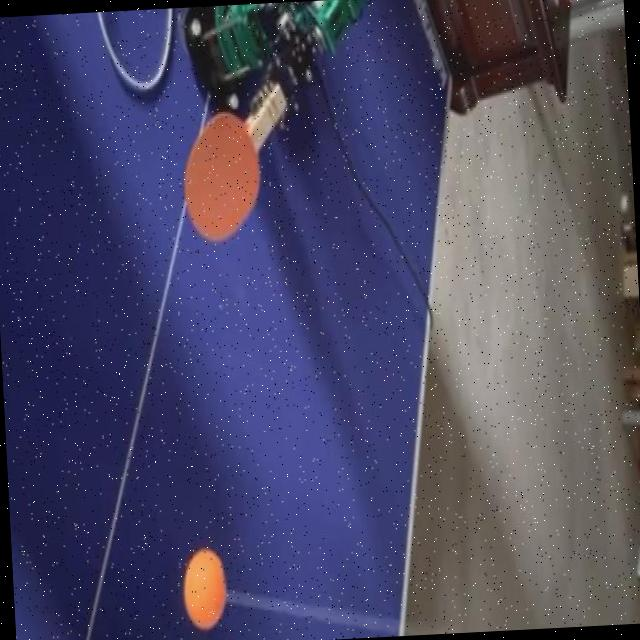ping-pong-ball: (183, 544, 230, 622)
